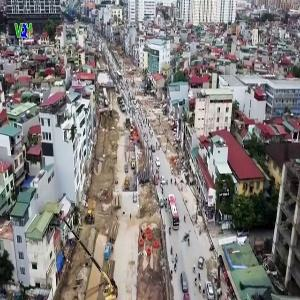drone: (159, 212, 214, 267)
